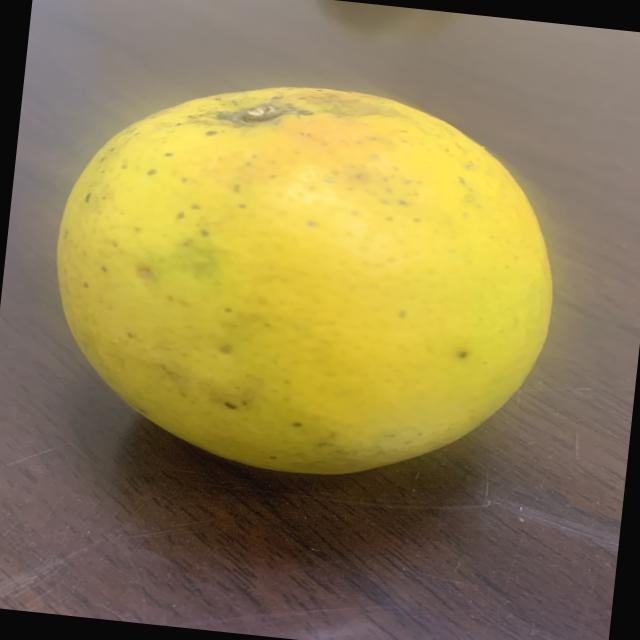agrume: (33, 54, 587, 515)
